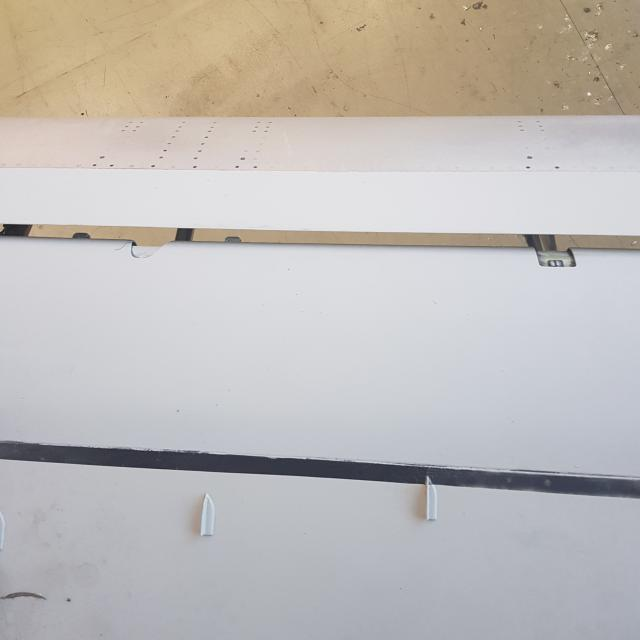Rupture: (108, 242, 134, 255)
